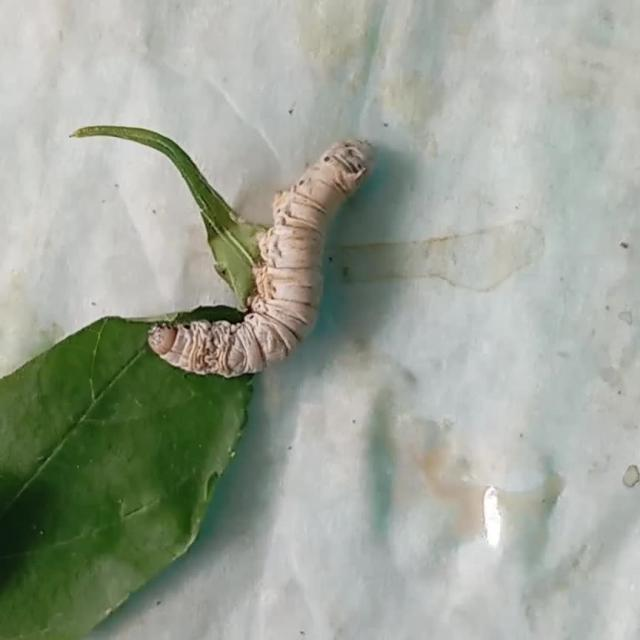Grasserie: (134, 105, 393, 408)
